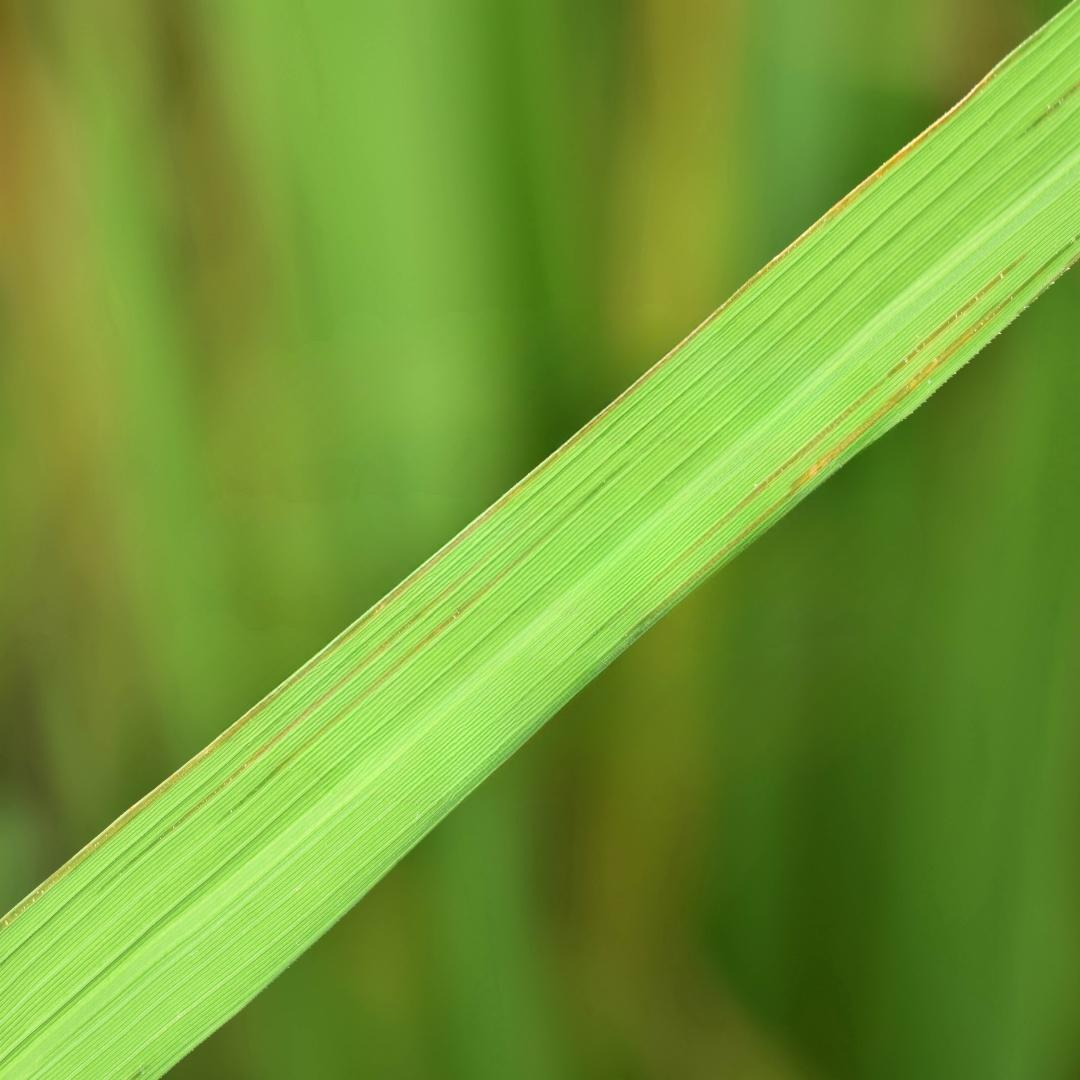BLS: (0, 40, 1037, 933), (605, 238, 1077, 653), (104, 545, 502, 890), (659, 249, 1030, 579), (220, 509, 579, 822)
LEAF: (0, 0, 1079, 1079)
